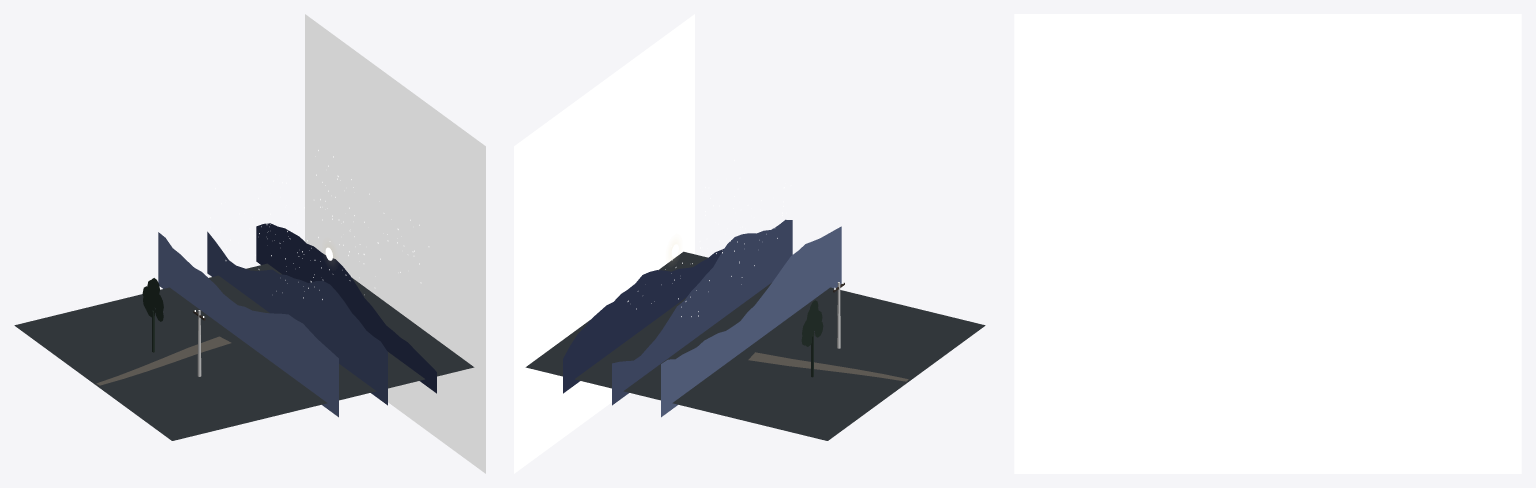
The model's file is outside.glb.
The picture shows the model from 3 angles, left to right: view 1: azimuth 30°, elevation 25°; view 2: azimuth 150°, elevation 25°; view 3: azimuth 270°, elevation 25°; orthographic projection. The views are drawn at different scales.
Parts seen in each view (by area): view 1: outside_sky, outside_ground, outside_mtn_far, outside_mtn_mid, outside_mtn_near, outside_path, outside_tree; view 2: outside_sky, outside_ground, outside_mtn_mid, outside_mtn_far, outside_mtn_near, outside_path, outside_tree; view 3: outside_sky.
Boxes of the visible parts, x1,y1,x2,y2 form: outside_sky: (305, 14, 485, 473); outside_ground: (14, 263, 474, 440); outside_mtn_far: (158, 232, 338, 417); outside_mtn_mid: (207, 231, 387, 405); outside_mtn_near: (256, 223, 436, 393); outside_path: (96, 336, 231, 385); outside_tree: (142, 278, 163, 352); outside_sky: (514, 14, 694, 473); outside_ground: (525, 251, 985, 440); outside_mtn_mid: (612, 219, 792, 405); outside_mtn_far: (661, 226, 841, 417); outside_mtn_near: (563, 249, 723, 393); outside_path: (748, 352, 908, 381); outside_tree: (801, 300, 823, 377); outside_sky: (1014, 14, 1521, 473).
Size of the model in its own units: 15.45 by 16 by 16.
